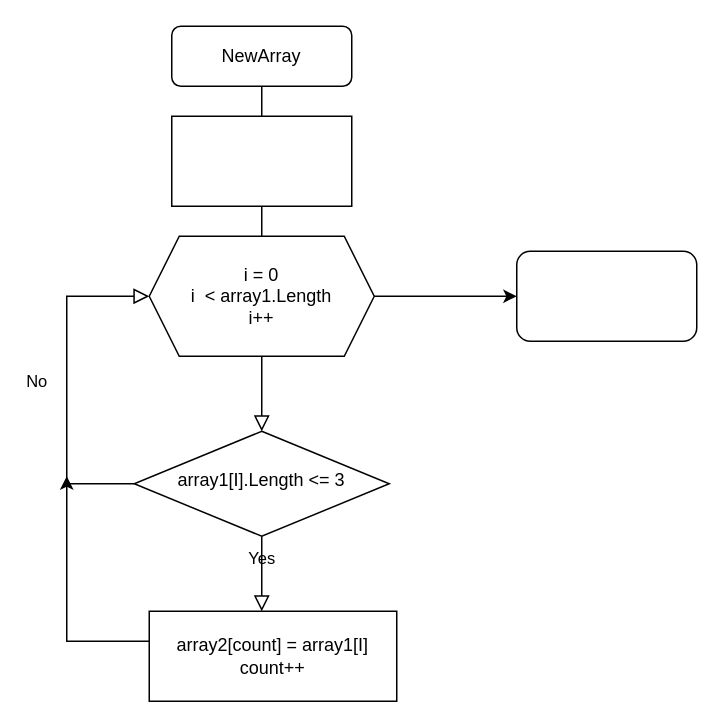
The diagram is 723 pixels wide and 728 high, and some of its shapes have lost their labels. Each missing label, with the centre of its shape:
"finish" goes at [606,295].
"string[] array1 string[] array2 int count = 0" goes at [261,160].
